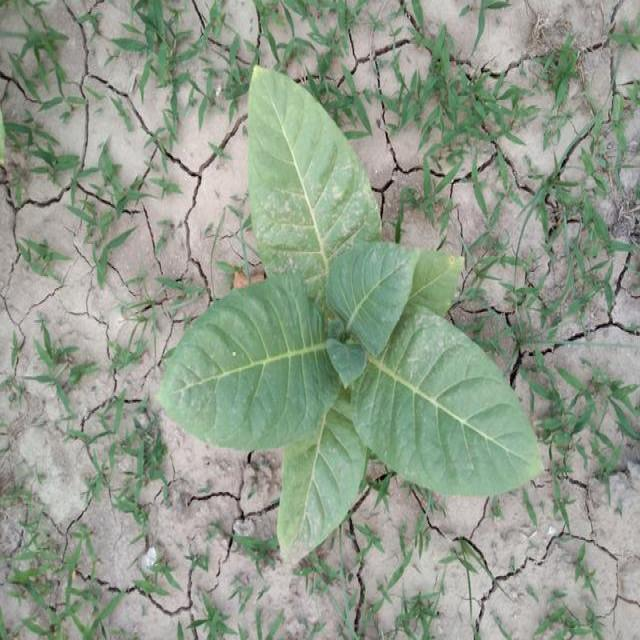crop: (160, 62, 550, 574)
